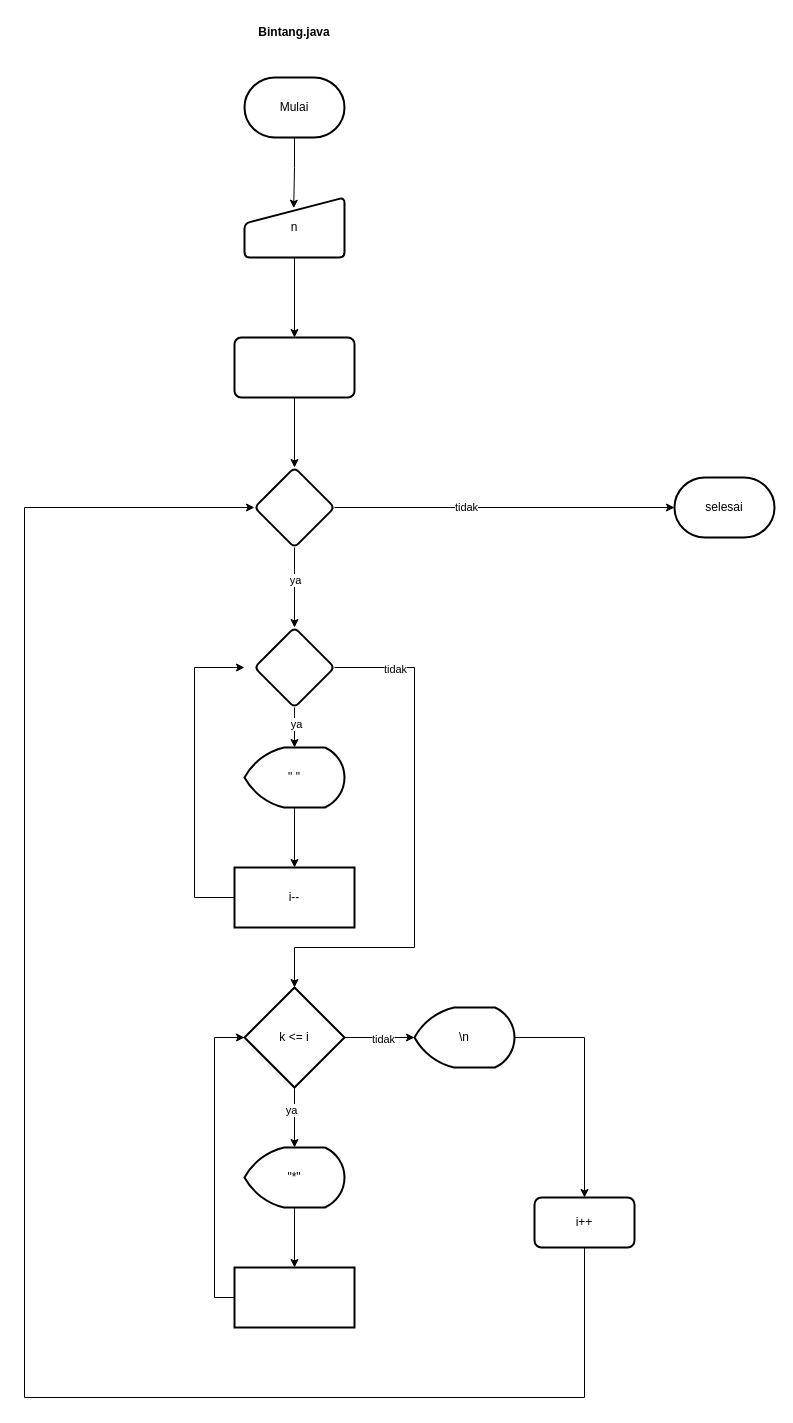
Some shapes in this 793 by 1423 pixel diagram are drawn without their labels. The centre of each missing label's shape, as x and y in pixels:
"i <= n" belongs at (294,507).
"i = 0 j = n - 1 k = 1" belongs at (294,367).
"j >= i" belongs at (294,667).
"k++" belongs at (294,1297).
